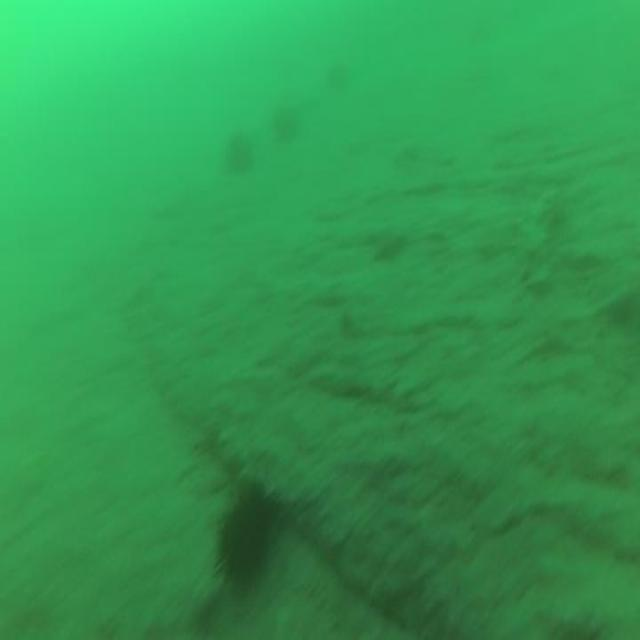echinus: (199, 468, 288, 604), (225, 126, 253, 182), (273, 101, 303, 146)
